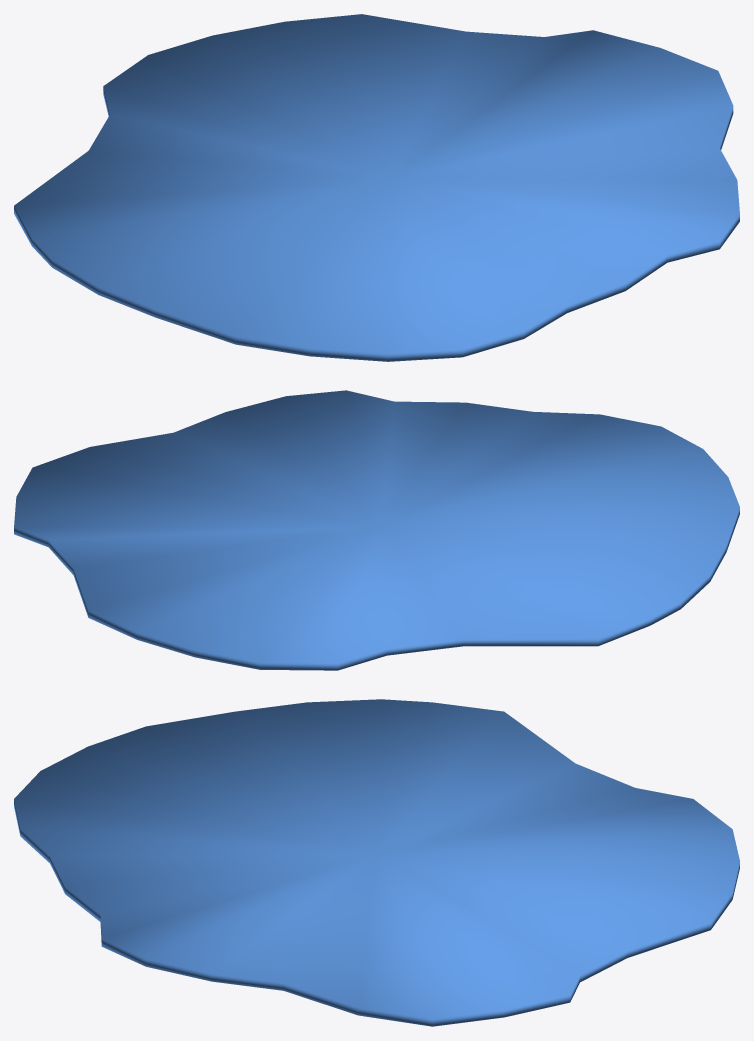
File: puddle1.fbx
3 renders of one model, top to bottom at view 1: azimuth 30°, elevation 25°; view 2: azimuth 150°, elevation 25°; view 3: azimuth 270°, elevation 25°, orthographic. The views are drawn at different scales.
Visible parts, largest first — view 1: Circle; view 2: Circle; view 3: Circle.
Part boxes in pixels (<box>): Circle: <box>14,14,739,361</box>; Circle: <box>14,390,739,670</box>; Circle: <box>14,699,739,1026</box>.
Bounding box in the file's own units: 560 × 6.32 × 537.
